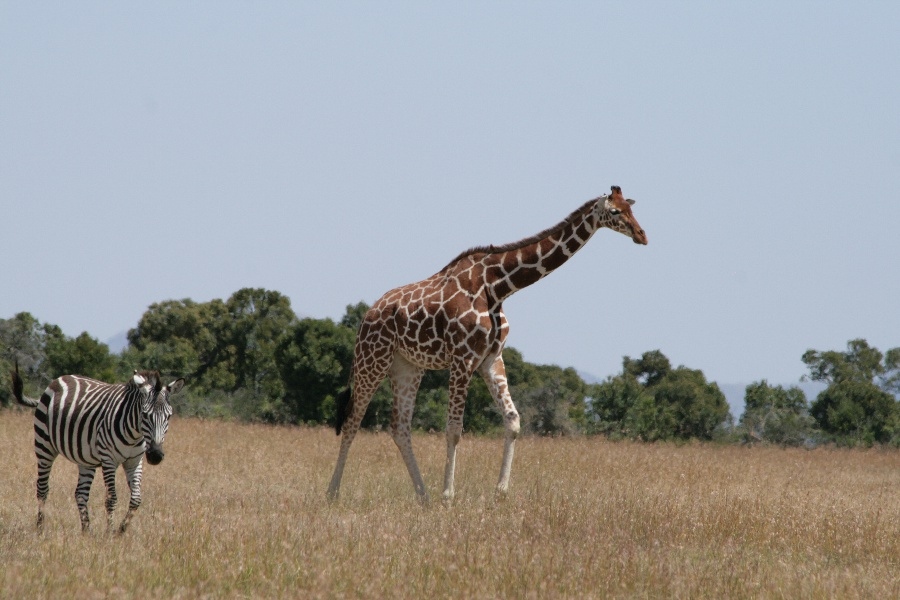giraffe: (310, 170, 656, 510)
